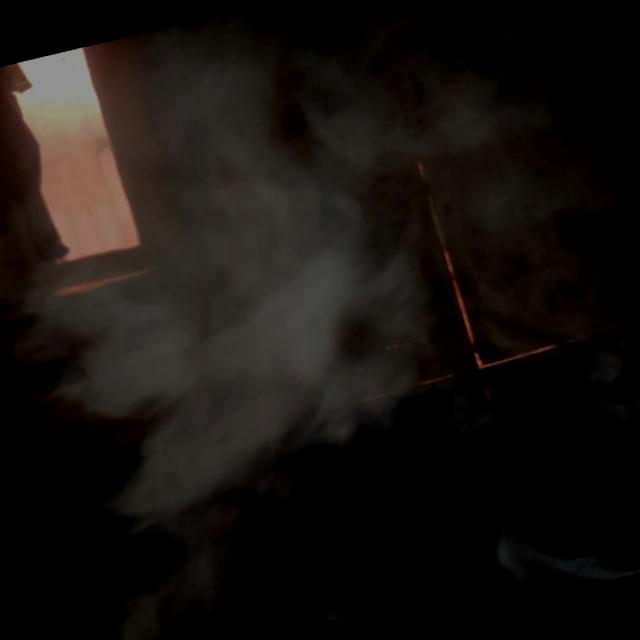smoke: (3, 9, 576, 610)
